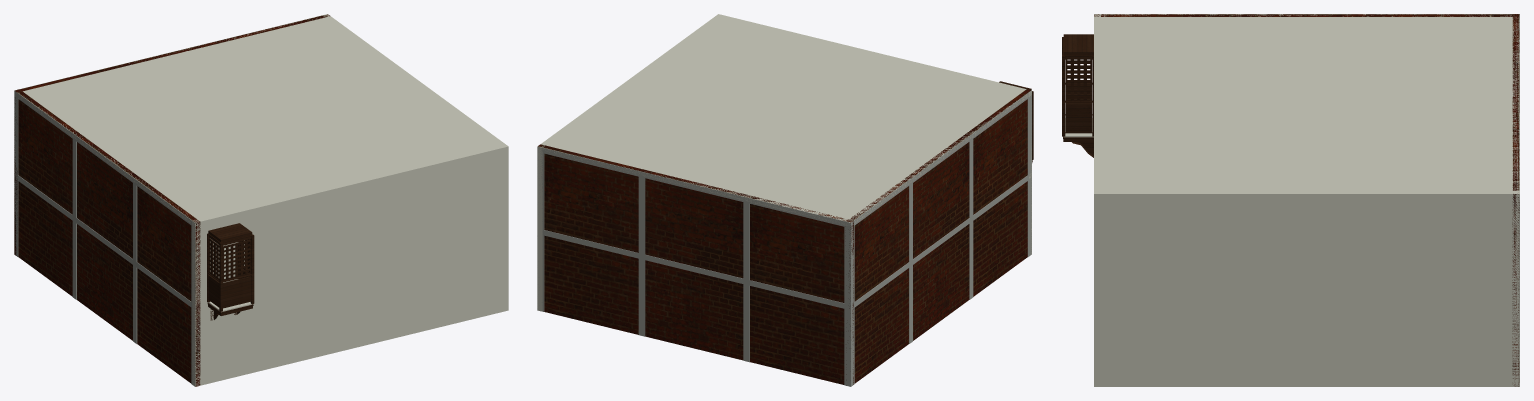
File: building.glb
The picture shows the model from 3 angles, left to right: view 1: azimuth 30°, elevation 25°; view 2: azimuth 150°, elevation 25°; view 3: azimuth 270°, elevation 25°; orthographic projection. The views are drawn at different scales.
Visible parts, largest first — view 1: roof/house:0/roof_slab#0001, house:0/edge0/z0/house:0/edge0/z0/wall_0_0, house:0/edge3/z0/house:0/edge3/z0/wall_0_0, house:0/edge2/z0/house:0/edge2/z0/wall_0_0, house:0/edge3/z0/house:0/edge3/z0/beam_0_0, house:0/edge3/z0/house:0/edge3/z0/beam_1_0, house:0/edge1/z0/house:0/edge1/z0/wall_0_0, balcony/sample/balcony_fretwork#0002, balcony/sample/balcony_panel#0002, balcony/sample/balcony_cover#0001; view 2: roof/house:0/roof_slab#0001, house:0/edge2/z0/house:0/edge2/z0/wall_0_0, house:0/edge3/z0/house:0/edge3/z0/wall_0_0, house:0/edge1/z0/house:0/edge1/z0/wall_0_0, house:0/edge2/z0/house:0/edge2/z0/beam_0_0, house:0/edge2/z0/house:0/edge2/z0/beam_1_0, house:0/edge3/z0/house:0/edge3/z0/beam_0_0, house:0/edge0/z0/house:0/edge0/z0/wall_0_0, house:0/edge3/z0/house:0/edge3/z0/beam_1_0, house:0/edge2/z0/house:0/edge2/z0/column_2_0, house:0/edge2/z0/house:0/edge2/z0/column_1_1, house:0/edge2/z0/house:0/edge2/z0/column_2_1 (+3 smaller); view 3: house:0/edge1/z0/house:0/edge1/z0/wall_0_0, roof/house:0/roof_slab#0001, house:0/edge0/z0/house:0/edge0/z0/wall_0_0, house:0/edge2/z0/house:0/edge2/z0/wall_0_0, house:0/edge3/z0/house:0/edge3/z0/wall_0_0, balcony/sample/balcony_fretwork#0003, balcony/sample/balcony_panel#0003, balcony/sample/balcony_cover#0001.
Boxes of the visible parts, x1=… form: roof/house:0/roof_slab#0001: x1=16, y1=15, x2=507, y2=225; house:0/edge0/z0/house:0/edge0/z0/wall_0_0: x1=192, y1=144, x2=508, y2=386; house:0/edge3/z0/house:0/edge3/z0/wall_0_0: x1=17, y1=89, x2=200, y2=386; house:0/edge2/z0/house:0/edge2/z0/wall_0_0: x1=14, y1=14, x2=329, y2=255; house:0/edge3/z0/house:0/edge3/z0/beam_0_0: x1=14, y1=173, x2=195, y2=309; house:0/edge3/z0/house:0/edge3/z0/beam_1_0: x1=14, y1=91, x2=195, y2=228; house:0/edge1/z0/house:0/edge1/z0/wall_0_0: x1=323, y1=14, x2=508, y2=311; balcony/sample/balcony_fretwork#0002: x1=223, y1=241, x2=251, y2=279; balcony/sample/balcony_panel#0002: x1=223, y1=276, x2=251, y2=308; balcony/sample/balcony_cover#0001: x1=208, y1=223, x2=252, y2=242; roof/house:0/roof_slab#0001: x1=540, y1=14, x2=1031, y2=225; house:0/edge2/z0/house:0/edge2/z0/wall_0_0: x1=538, y1=144, x2=853, y2=384; house:0/edge3/z0/house:0/edge3/z0/wall_0_0: x1=846, y1=89, x2=1030, y2=383; house:0/edge1/z0/house:0/edge1/z0/wall_0_0: x1=537, y1=14, x2=721, y2=311; house:0/edge2/z0/house:0/edge2/z0/beam_0_0: x1=542, y1=230, x2=851, y2=310; house:0/edge2/z0/house:0/edge2/z0/beam_1_0: x1=538, y1=146, x2=851, y2=228; house:0/edge3/z0/house:0/edge3/z0/beam_0_0: x1=850, y1=172, x2=1031, y2=309; house:0/edge0/z0/house:0/edge0/z0/wall_0_0: x1=716, y1=14, x2=1031, y2=253; house:0/edge3/z0/house:0/edge3/z0/beam_1_0: x1=850, y1=90, x2=1031, y2=227; house:0/edge2/z0/house:0/edge2/z0/column_2_0: x1=638, y1=177, x2=645, y2=254; house:0/edge2/z0/house:0/edge2/z0/column_1_1: x1=844, y1=227, x2=851, y2=304; house:0/edge2/z0/house:0/edge2/z0/column_2_1: x1=638, y1=259, x2=645, y2=336; house:0/edge1/z0/house:0/edge1/z0/wall_0_0: x1=1094, y1=191, x2=1519, y2=386; roof/house:0/roof_slab#0001: x1=1094, y1=14, x2=1519, y2=198; house:0/edge0/z0/house:0/edge0/z0/wall_0_0: x1=1094, y1=14, x2=1100, y2=386; house:0/edge2/z0/house:0/edge2/z0/wall_0_0: x1=1512, y1=14, x2=1519, y2=386; house:0/edge3/z0/house:0/edge3/z0/wall_0_0: x1=1094, y1=14, x2=1519, y2=16; balcony/sample/balcony_fretwork#0003: x1=1065, y1=62, x2=1091, y2=100; balcony/sample/balcony_panel#0003: x1=1065, y1=103, x2=1091, y2=133; balcony/sample/balcony_cover#0001: x1=1063, y1=34, x2=1093, y2=55.
Size of the model in its own units: 12 by 6 by 12.89.
Materials: 4 (2 with a texture image).
